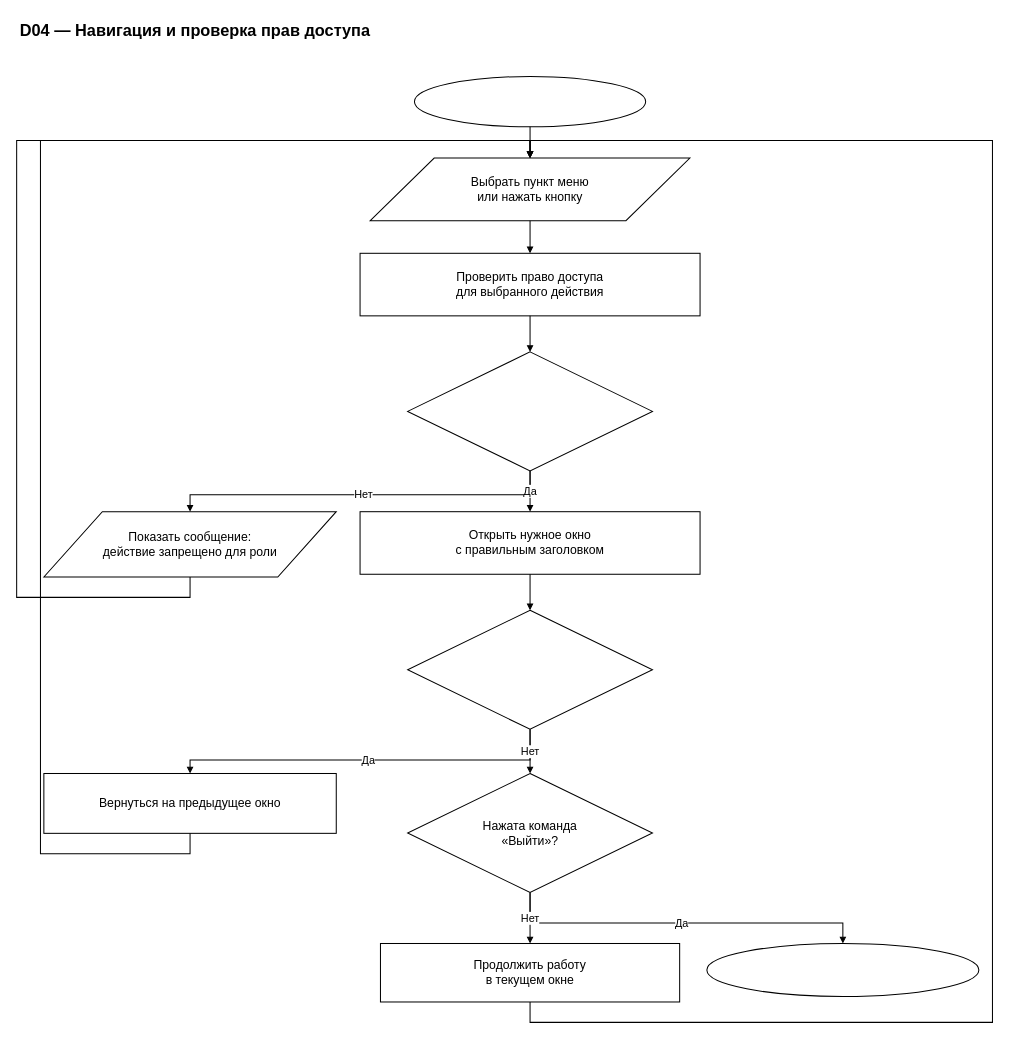
This 1010x1040 diagram has some shape labels left out. The shapes that lost their labels are listed below. From the top down, each one's centre as x and y in pixels, then its label:
[530,101]: Каталог открыт
[530,411]: Доступ разрешён?
[530,669]: Нажата кнопка «Назад»?
[842,970]: Открыть окно входа
